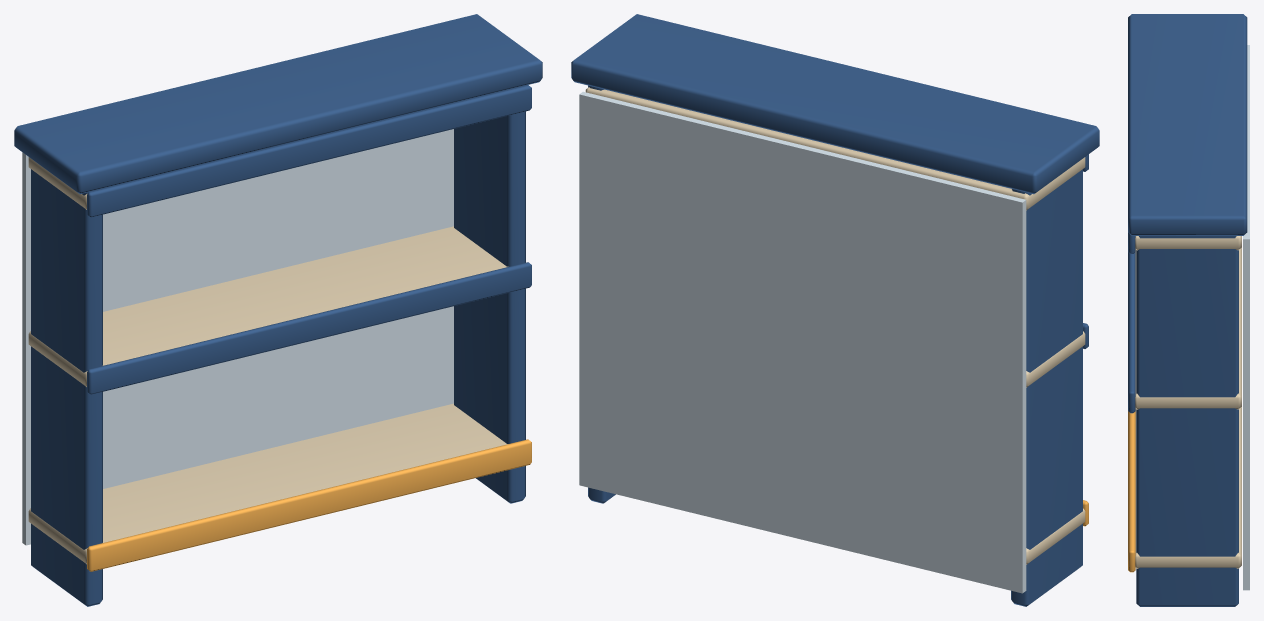
The model's file is DisplayShelf.fbx.
The picture shows the model from 3 angles, left to right: view 1: azimuth 30°, elevation 25°; view 2: azimuth 150°, elevation 25°; view 3: azimuth 270°, elevation 25°; orthographic projection. The views are drawn at different scales.
Visible parts, largest first — view 1: DisplayShelf back, DisplayShelf top, DisplayShelf upright, DisplayShelf plank, DisplayShelf plank.001, DisplayShelf upright.001, DisplayShelf shelf edge, DisplayShelf shelf edge.001, DisplayShelf shelf edge.002; view 2: DisplayShelf back, DisplayShelf top, DisplayShelf upright, DisplayShelf plank.002, DisplayShelf plank, DisplayShelf plank.001; view 3: DisplayShelf upright.001, DisplayShelf top, DisplayShelf back, DisplayShelf plank.001, DisplayShelf plank, DisplayShelf shelf edge, DisplayShelf shelf edge.001, DisplayShelf plank.002.
Boxes of the visible parts, box(x1,y1,x2,y2) form: DisplayShelf back: box(22, 129, 453, 545); DisplayShelf top: box(14, 14, 542, 194); DisplayShelf upright: box(31, 169, 102, 606); DisplayShelf plank: box(28, 403, 507, 564); DisplayShelf plank.001: box(28, 226, 508, 386); DisplayShelf upright.001: box(454, 111, 525, 503); DisplayShelf shelf edge: box(87, 439, 531, 571); DisplayShelf shelf edge.001: box(87, 262, 531, 394); DisplayShelf shelf edge.002: box(87, 85, 531, 217); DisplayShelf back: box(579, 91, 1026, 593); DisplayShelf top: box(571, 14, 1099, 194); DisplayShelf upright: box(1011, 169, 1082, 606); DisplayShelf plank.002: box(585, 87, 1085, 210); DisplayShelf plank: box(1026, 508, 1085, 564); DisplayShelf plank.001: box(1026, 331, 1085, 387); DisplayShelf upright.001: box(1136, 236, 1238, 606); DisplayShelf top: box(1128, 14, 1247, 235); DisplayShelf back: box(1243, 45, 1249, 590); DisplayShelf plank.001: box(1135, 247, 1241, 409); DisplayShelf plank: box(1135, 407, 1241, 568); DisplayShelf shelf edge: box(1128, 411, 1135, 572); DisplayShelf shelf edge.001: box(1128, 252, 1135, 413); DisplayShelf plank.002: box(1135, 236, 1241, 250).
Bounding box in the file's own units: 321 × 291 × 80.75.
